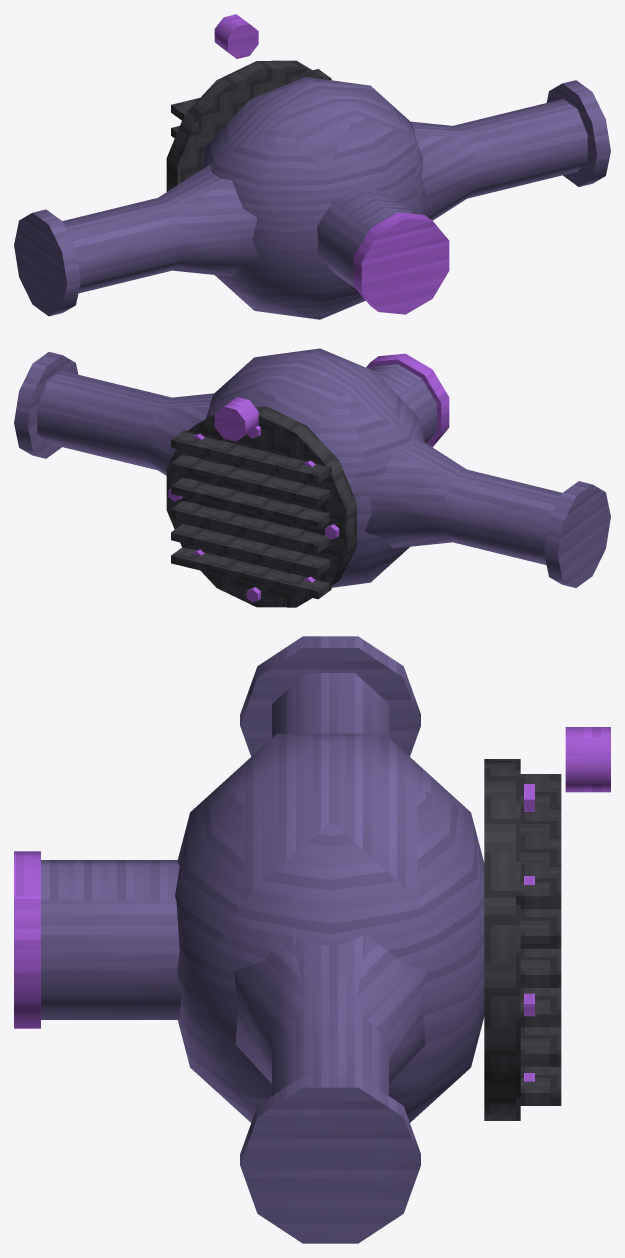
The model's file is diferencial_n5.glb.
3 renders of one model, top to bottom at view 1: azimuth 30°, elevation 25°; view 2: azimuth 150°, elevation 25°; view 3: azimuth 270°, elevation 25°, orthographic. The views are drawn at different scales.
Visible parts, largest first — view 1: diferencial_n5; view 2: diferencial_n5; view 3: diferencial_n5.
Part boxes in pixels (x1=…): diferencial_n5: x1=14, y1=14, x2=610, y2=319; diferencial_n5: x1=14, y1=348, x2=610, y2=607; diferencial_n5: x1=14, y1=636, x2=610, y2=1243.
Size of the model in its own units: 0.59 by 0.2466 by 0.33.
2 materials, 2 textured.
